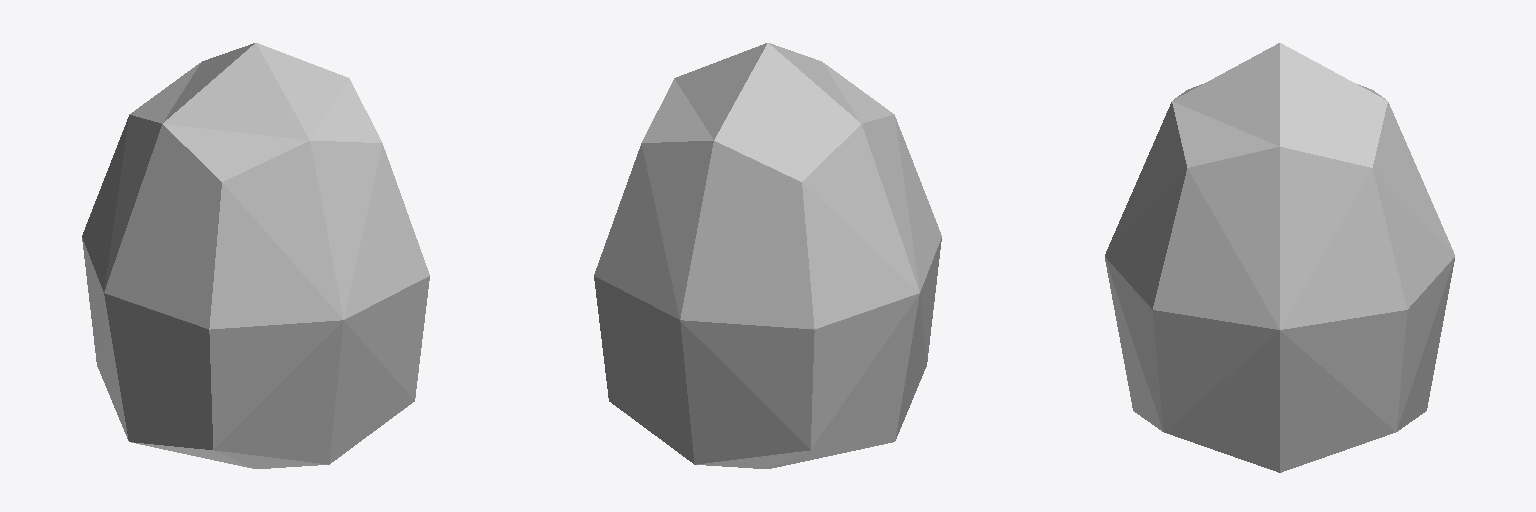
File: Egg.obj
The picture shows the model from 3 angles: view 1: azimuth 30°, elevation 25°; view 2: azimuth 150°, elevation 25°; view 3: azimuth 270°, elevation 25°; orthographic projection.
Parts seen in each view (by area): view 1: Cube; view 2: Cube; view 3: Cube.
Boxes of the visible parts, box(x1,y1,x2,y2) form: Cube: box(82, 43, 429, 468); Cube: box(594, 43, 941, 468); Cube: box(1105, 43, 1454, 472).
Bounding box in the file's own units: 1.25 × 1.68 × 1.25.